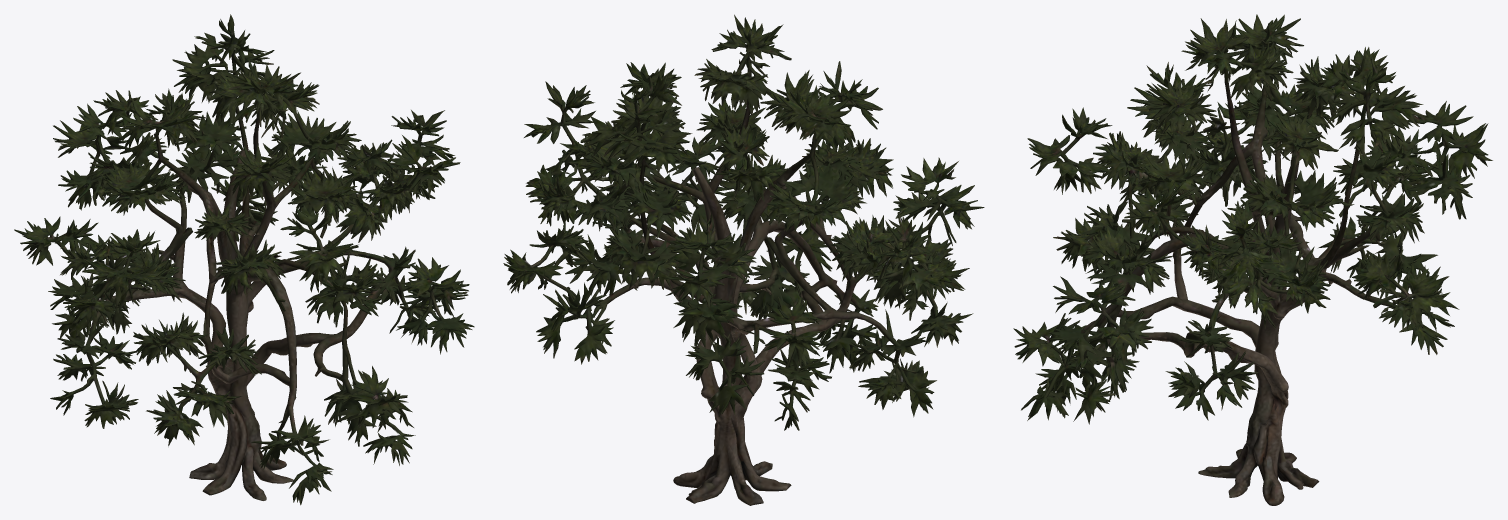
File: alder.glb
3 renders of one model, left to right at view 1: azimuth 30°, elevation 25°; view 2: azimuth 150°, elevation 25°; view 3: azimuth 270°, elevation 25°, orthographic. The views are drawn at different scales.
Parts seen in each view (by area): view 1: tripo_node_6ef0d0bf-9a4c-43a0-b79b-c0caaec1f434; view 2: tripo_node_6ef0d0bf-9a4c-43a0-b79b-c0caaec1f434; view 3: tripo_node_6ef0d0bf-9a4c-43a0-b79b-c0caaec1f434.
Boxes of the visible parts, x1,y1,x2,y2 form: tripo_node_6ef0d0bf-9a4c-43a0-b79b-c0caaec1f434: (14,14,474,505); tripo_node_6ef0d0bf-9a4c-43a0-b79b-c0caaec1f434: (503,14,984,505); tripo_node_6ef0d0bf-9a4c-43a0-b79b-c0caaec1f434: (1013,14,1492,505).
Bounding box in the file's own units: 5.86 × 6 × 5.7.
1 material, 1 textured.
